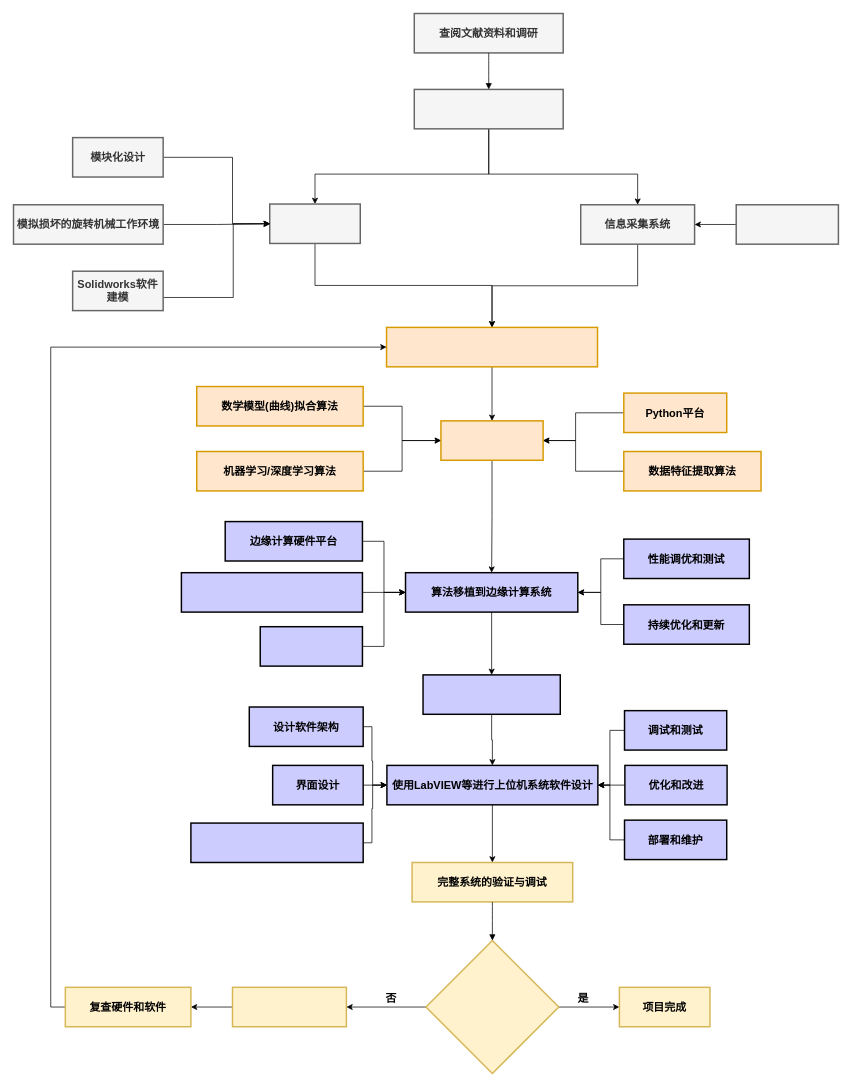
Image size: 851x1086. Some labels were removed from this diagram. Each missing label, with the centre of its shape:
"制定调试方案" belongs at (289,1006).
"多种工作环境下特征信号提取" belongs at (491,346).
"实验台总体方案拟定" belongs at (488,108).
"振动传感器" belongs at (787,224).
"是否符合预期效果" belongs at (492,1007).
"硬件设施" belongs at (315,223).
"程序与算法" belongs at (491,440).
"编写各个功能模块的代码" belongs at (277,842).
"边缘计算系统测试" belongs at (491,694).
"选择适合目标设备的编程框架和工具" belongs at (271,592).
"部署和集成" belongs at (311,646).
